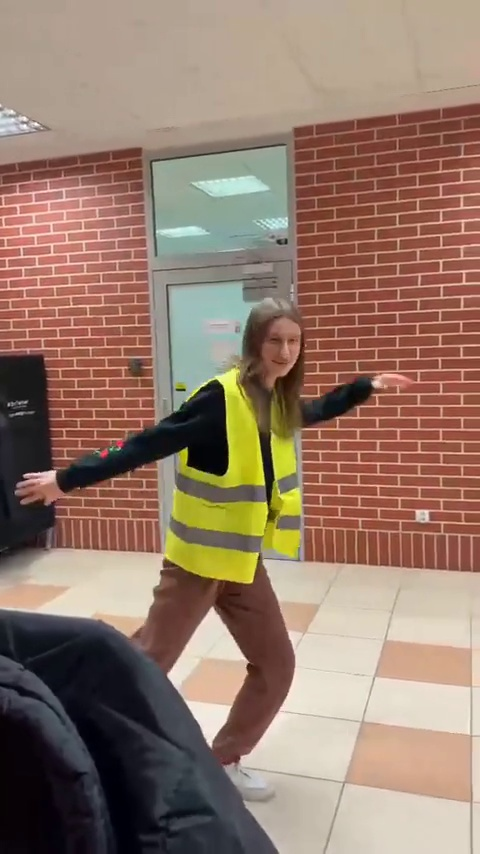vest: (141, 301, 320, 782)
